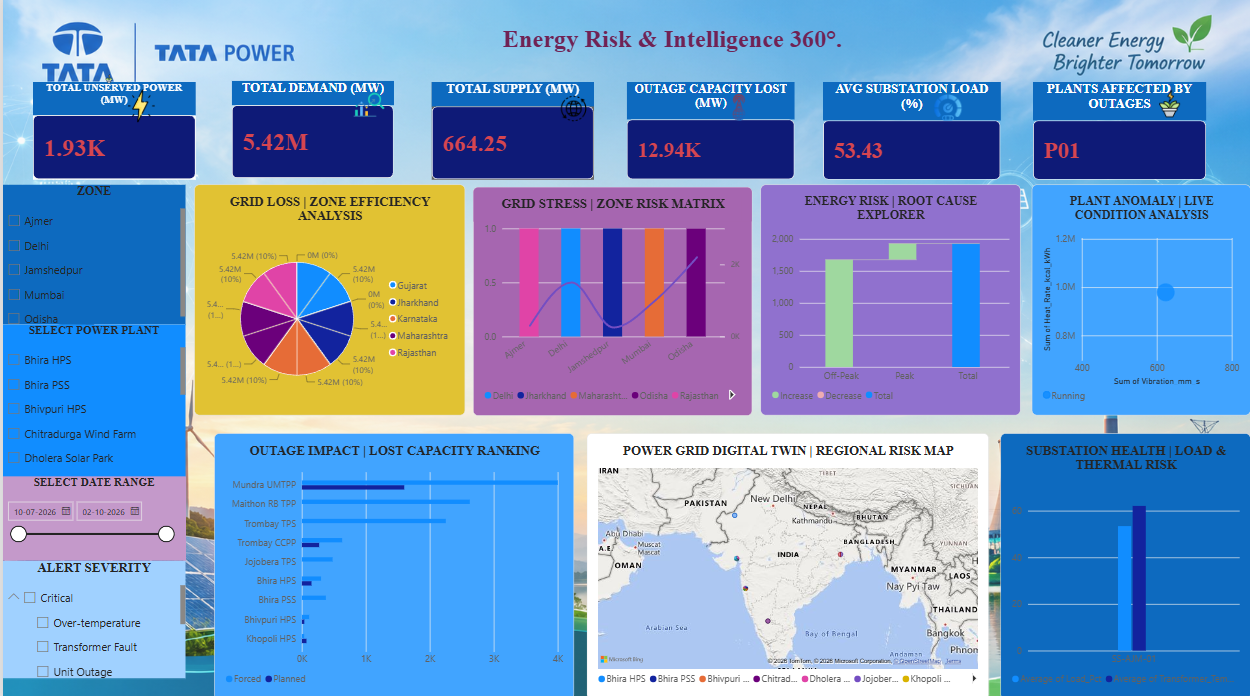

This screenshot's page, from the dashboard's own definition file:
{"tool":"powerbi","page":{"name":"ENERGY RISK & INTELLIGENCE 360","canvas":[1920,1080],"ordinal":3},"visuals":[{"type":"lineStackedColumnComboChart","title":"GRID STRESS | ZONE RISK MATRIX","fields":{"Category":["Dim_Zone.Zone"],"Series":["Dim_Zone.State"],"Y":["CountNonNull(Dim_Zone.ZoneID)"],"Y2":["Sum(Dim_Zone.Peak_Demand_MW_Illustrative)"]},"box":[722.2,292.6,429.6,351.9],"z":0},{"type":"scatterChart","title":"PLANT ANOMALY | LIVE CONDITION ANALYSIS","fields":{"Category":["Fact_Plant_Live.Plant_Name"],"Series":["Fact_Plant_Live.Status"],"Size":["Sum(Fact_Plant_Live.Output_MW)"],"X":["Sum(Fact_Plant_Live.Vibration_mm_s)"],"Y":["Sum(Fact_Plant_Live.Heat_Rate_kcal_kWh)"]},"box":[1583.3,288.9,337,355.6],"z":1000},{"type":"clusteredBarChart","title":"OUTAGE IMPACT | LOST CAPACITY RANKING","fields":{"Category":["Fact_Outage_Log.Plant_Name"],"Series":["Fact_Outage_Log.Outage_Type"],"Y":["Sum(Fact_Outage_Log.MW_Lost)"]},"box":[324.1,670.4,553.7,409.3],"z":2000},{"type":"pieChart","title":"GRID LOSS | ZONE EFFICIENCY ANALYSIS","fields":{"Category":["Dim_Plant.State"],"Y":["Avg(Fact_Grid_Live.Technical_Loss_Pct)","Sum(Fact_Grid_Live.Demand_MW)","Sum(Fact_Grid_Live.Supply_MW)"]},"box":[294.4,288.9,416.7,355.6],"z":3000},{"type":"lineClusteredColumnComboChart","title":"SUBSTATION HEALTH | LOAD & THERMAL RISK","fields":{"Category":["Fact_Substation_Health.SubstationID"],"Y":["Avg(Fact_Substation_Health.Load_Pct)","Avg(Fact_Substation_Health.Transformer_Temp_C)"]},"box":[1535.2,670.4,385.2,409.3],"z":4000},{"type":"waterfallChart","title":"ENERGY RISK | ROOT CAUSE EXPLORER","fields":{"Category":["Fact_Grid_Live.Peak_Flag","Dim_Plant.State","Fact_Grid_Live.Timestamp.Variation.Date Hierarchy.Year","Fact_Grid_Live.Timestamp.Variation.Date Hierarchy.Quarter","Fact_Grid_Live.Timestamp.Variation.Date Hierarchy.Month","Fact_Grid_Live.Timestamp.Variation.Date Hierarchy.Day","Fact_Grid_Live.Grid_Status"],"Y":["Sum(Fact_Grid_Live.Unserved_MW)"]},"box":[1164.8,288.9,400,355.6],"z":5000},{"type":"textbox","title":"Energy Risk & Intelligence 360°.","box":[249.7,41.6,1559.9,57.9],"z":6000},{"type":"cardVisual","title":"TOTAL UNSERVED POWER (MW)","fields":{"Data":["Sum(Fact_Grid_Live.Unserved_MW)"]},"box":[45.2,130.3,250,150],"z":7000},{"type":"cardVisual","title":"TOTAL DEMAND (MW)","fields":{"Data":["Sum(Fact_Grid_Live.Demand_MW)"]},"box":[352.9,128.5,249.7,150.2],"z":8000},{"type":"cardVisual","title":"TOTAL SUPPLY (MW)","fields":{"Data":["Avg(Fact_Grid_Live.Supply_MW)"]},"box":[660.5,130.3,249.7,150.2],"z":9000},{"type":"cardVisual","title":"OUTAGE CAPACITY LOST (MW)","fields":{"Data":["Sum(Fact_Outage_Log.MW_Lost)"]},"box":[959.1,130.3,258.8,150.2],"z":10000},{"type":"cardVisual","title":"AVG SUBSTATION LOAD (%)","fields":{"Data":["Avg(Fact_Substation_Health.Load_Pct)"]},"box":[1261.3,130.3,273.3,150.2],"z":11000},{"type":"cardVisual","title":"PLANTS AFFECTED BY OUTAGES","fields":{"Data":["Min(Fact_Outage_Log.PlantID)"]},"box":[1585.3,130.3,266,150.2],"z":12000},{"type":"slicer","title":"ZONE","fields":{"Values":["Dim_Ev_Station.Zone"]},"box":[0,287.7,280.5,215.3],"z":13000},{"type":"slicer","title":"SELECT DATE RANGE","fields":{"Values":["Fact_Grid_Live.Timestamp"]},"box":[0,736.5,280.5,130.3],"z":14000},{"type":"slicer","title":"SELECT POWER PLANT","fields":{"Values":["Dim_Plant.Plant_Name"]},"box":[0,503.1,280.5,233.4],"z":15000},{"type":"slicer","title":"ALERT SEVERITY","fields":{"Values":["Fact_Alerts.Severity","Fact_Alerts.Alert_Type"]},"box":[0,866.8,280.5,181],"z":16000},{"type":"image","box":[170.1,143,86.9,50.7],"z":17000},{"type":"image","box":[523,139.3,79.6,54.3],"z":18000},{"type":"image","box":[821.6,150.2,114,43.4],"z":19000},{"type":"image","box":[1080.4,146.6,103.2,47.1],"z":20000},{"type":"image","box":[1417,146.6,72.4,47.1],"z":21000},{"type":"image","box":[155.6,99.5,14.5,50.7],"z":22000},{"type":"image","box":[1759,143,70.6,43.4],"z":23000},{"type":"map","title":"POWER GRID DIGITAL TWIN | REGIONAL RISK MAP","fields":{"Category":["Dim_Plant.State"],"Series":["Dim_Plant.Plant_Name"],"X":["Avg(Dim_Plant.Longitude)"],"Y":["Avg(Dim_Plant.Latitude)"]},"box":[898.1,670.4,618.5,409.3],"z":24000}]}

Visuals, with their boxes in screenshot pixels (x1, y1, x2, y2), scaled from the page's 1920x1080 canvas onto the 1250x696 screenshot:
"GRID STRESS | ZONE RISK MATRIX" lineStackedColumnComboChart: x1=470, y1=189, x2=750, y2=415
"PLANT ANOMALY | LIVE CONDITION ANALYSIS" scatterChart: x1=1031, y1=186, x2=1249, y2=415
"OUTAGE IMPACT | LOST CAPACITY RANKING" clusteredBarChart: x1=211, y1=432, x2=571, y2=695
"GRID LOSS | ZONE EFFICIENCY ANALYSIS" pieChart: x1=192, y1=186, x2=463, y2=415
"SUBSTATION HEALTH | LOAD & THERMAL RISK" lineClusteredColumnComboChart: x1=999, y1=432, x2=1249, y2=695
"ENERGY RISK | ROOT CAUSE EXPLORER" waterfallChart: x1=758, y1=186, x2=1019, y2=415
"Energy Risk & Intelligence 360°." textbox: x1=163, y1=27, x2=1178, y2=64
"TOTAL UNSERVED POWER (MW)" cardVisual: x1=29, y1=84, x2=192, y2=181
"TOTAL DEMAND (MW)" cardVisual: x1=230, y1=83, x2=392, y2=180
"TOTAL SUPPLY (MW)" cardVisual: x1=430, y1=84, x2=593, y2=181
"OUTAGE CAPACITY LOST (MW)" cardVisual: x1=624, y1=84, x2=793, y2=181
"AVG SUBSTATION LOAD (%)" cardVisual: x1=821, y1=84, x2=999, y2=181
"PLANTS AFFECTED BY OUTAGES" cardVisual: x1=1032, y1=84, x2=1205, y2=181
"ZONE" slicer: x1=0, y1=185, x2=183, y2=324
"SELECT DATE RANGE" slicer: x1=0, y1=475, x2=183, y2=559
"SELECT POWER PLANT" slicer: x1=0, y1=324, x2=183, y2=475
"ALERT SEVERITY" slicer: x1=0, y1=559, x2=183, y2=675
image: x1=111, y1=92, x2=167, y2=125
image: x1=340, y1=90, x2=392, y2=125
image: x1=535, y1=97, x2=609, y2=125
image: x1=703, y1=94, x2=771, y2=125
image: x1=923, y1=94, x2=970, y2=125
image: x1=101, y1=64, x2=111, y2=97
image: x1=1145, y1=92, x2=1191, y2=120
"POWER GRID DIGITAL TWIN | REGIONAL RISK MAP" map: x1=585, y1=432, x2=987, y2=695
